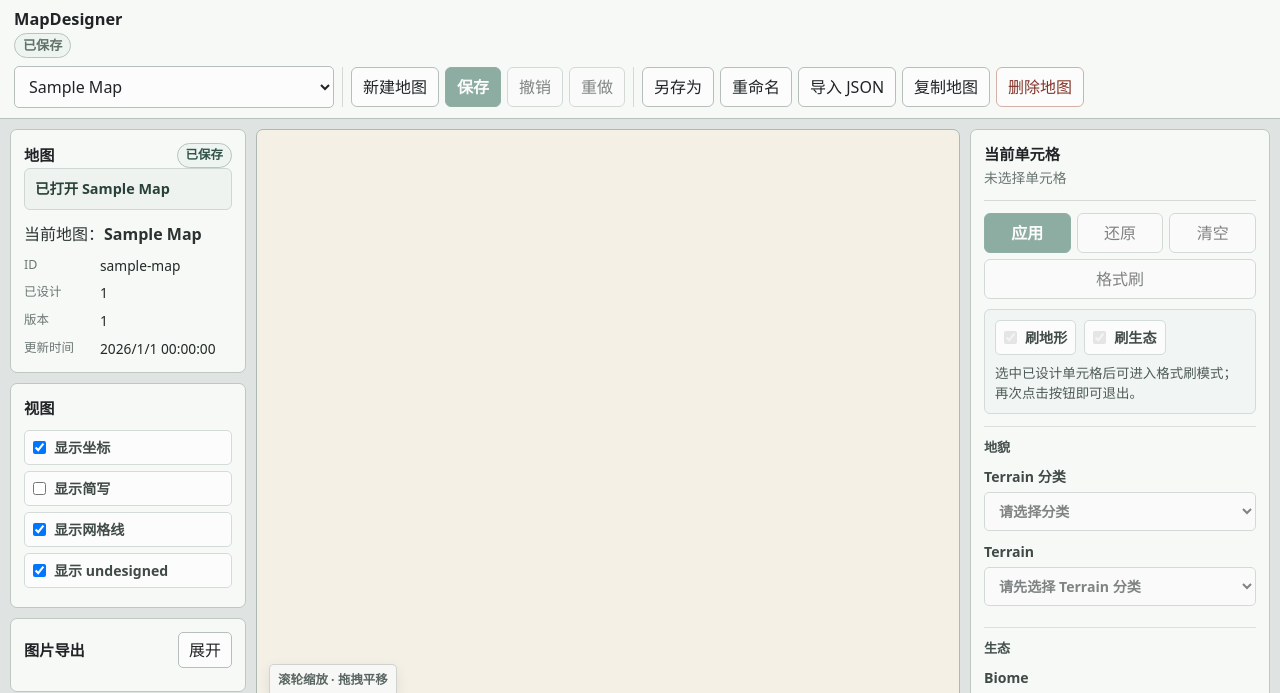
Test: App › can save the current map as a new copy
This screenshot has width=1280, height=693.
Expected: the text "已打开 Sample Map" is shown, [24,168,232,210]
Click the button "另存为".
click(678, 87)  # box [642,67,714,107]
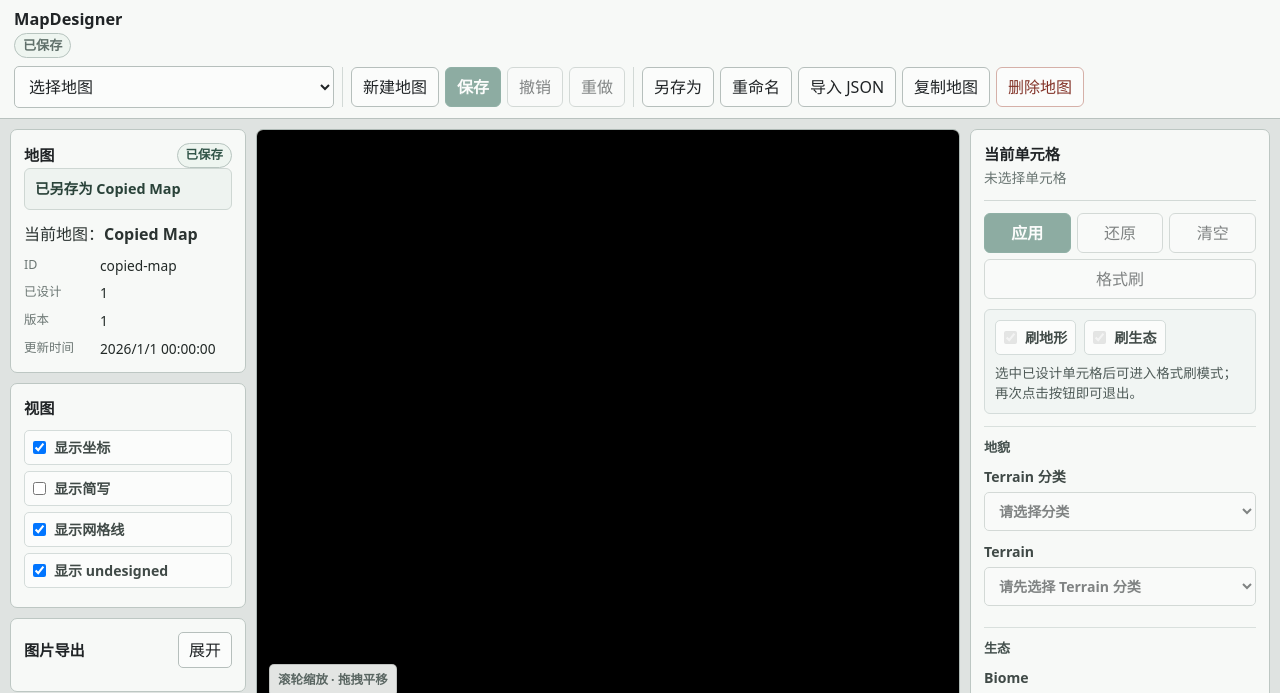
Expected: the text "已另存为 Copied Map" is shown, [24,168,232,210]
